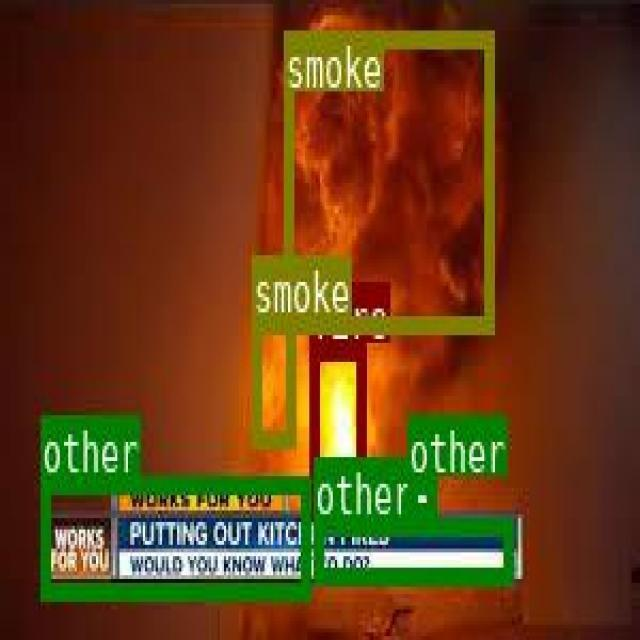fire: (308, 339, 363, 512)
smoke: (282, 27, 491, 330), (251, 314, 292, 445)
